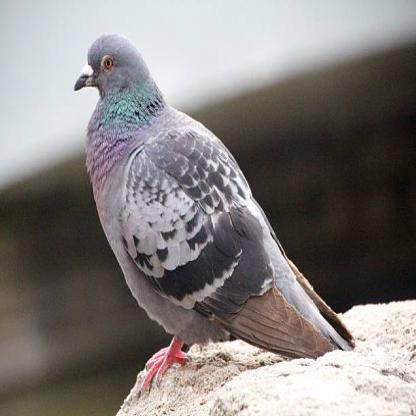Rock Pigeon: (71, 32, 351, 362)
